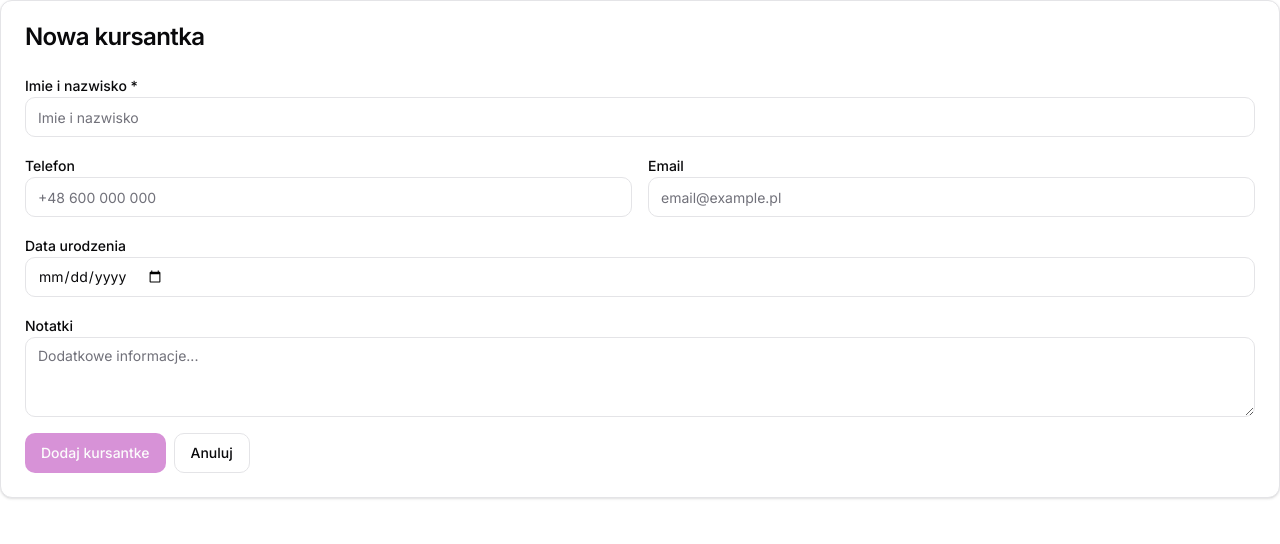
Scenario: StudentForm › shows validation error for short name
The image size is (1280, 544).
Type "A" into the field labelled "Imie i nazwisko *".
click(640, 117); type("A")  # box [25,97,1255,137]
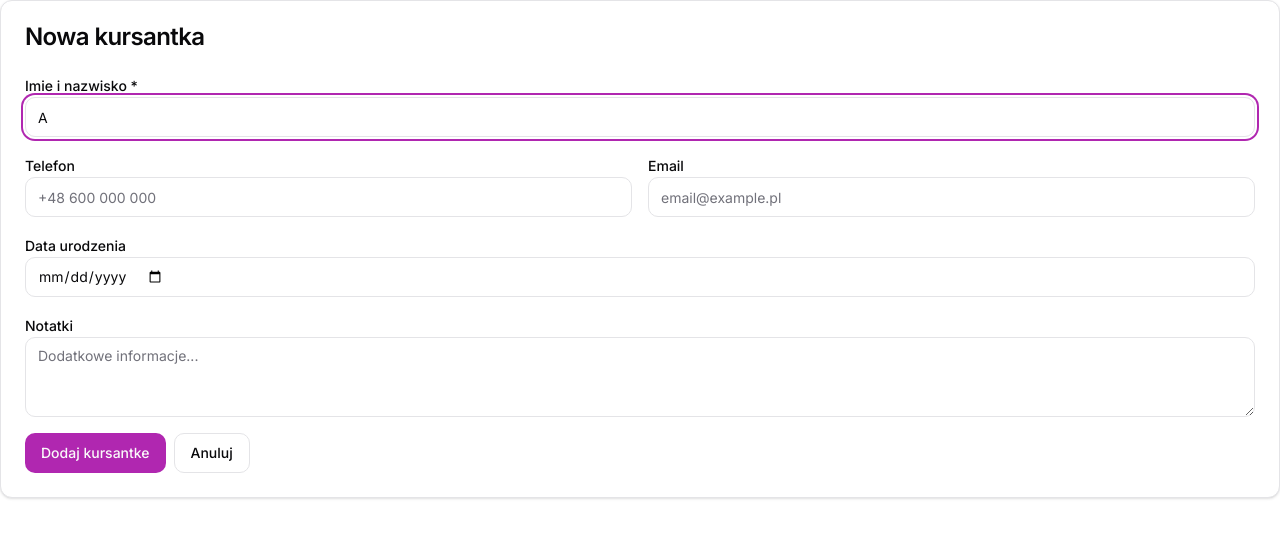
Click the button "Dodaj kursantke".
click(95, 453)  # box [25,433,166,473]
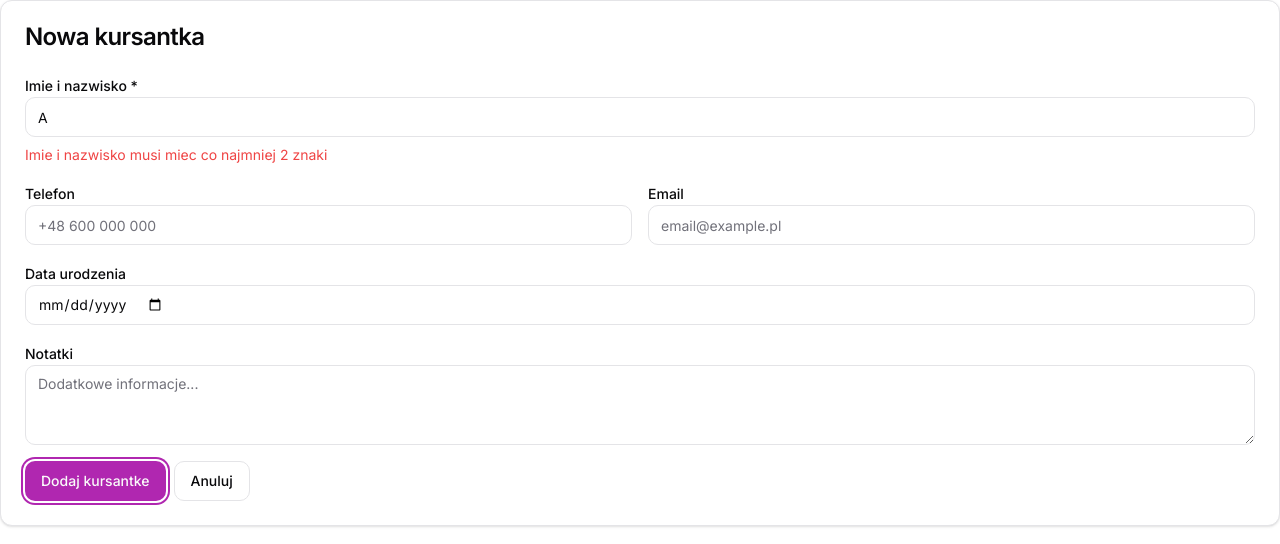
Now the text "Imie i nazwisko musi miec co najmniej 2 znaki" is shown, box [25,146,327,163]
